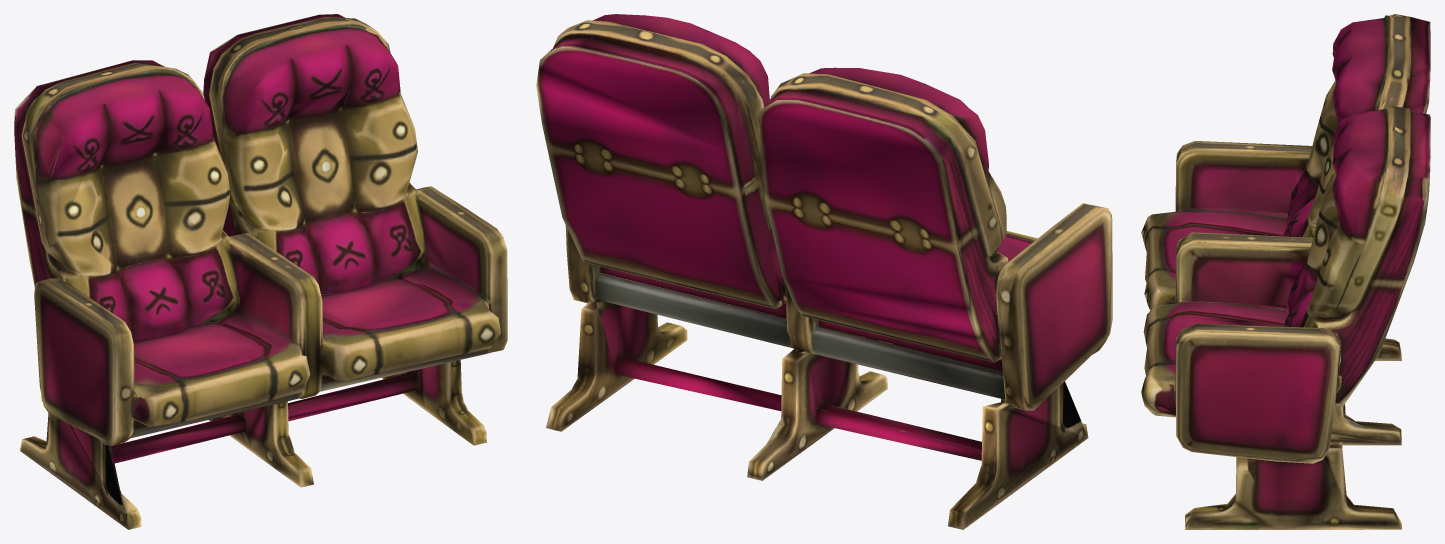
The model's file is 09_theater_seat.fbx.
3 views of the same model, side by side, from view 1: azimuth 30°, elevation 25°; view 2: azimuth 150°, elevation 25°; view 3: azimuth 270°, elevation 25° (orthographic). The views are drawn at different scales.
Parts seen in each view (by area): view 1: Mesh1.0; view 2: Mesh1.0; view 3: Mesh1.0.
Boxes of the visible parts, <box> form: Mesh1.0: <box>14,14,507,529</box>; Mesh1.0: <box>536,14,1112,529</box>; Mesh1.0: <box>1141,14,1430,529</box>.
Size of the model in its own units: 190 by 165 by 120.
Materials: 1 (1 with a texture image).
